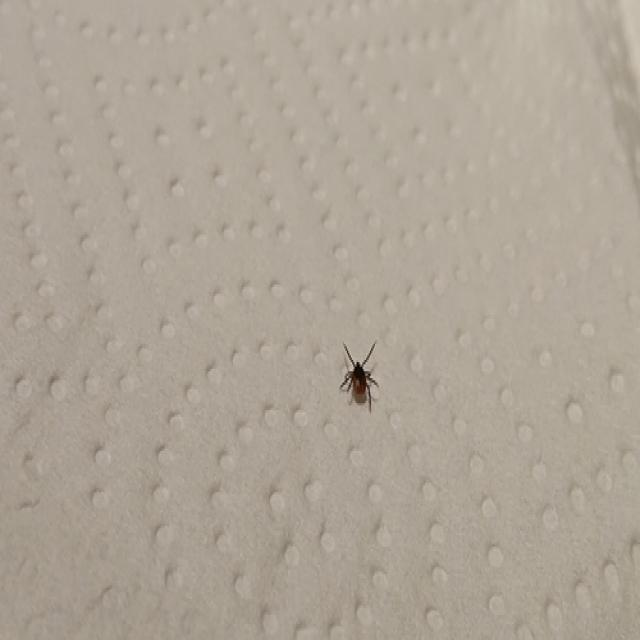Ixodes Ricinus-F: (339, 339, 379, 415)
